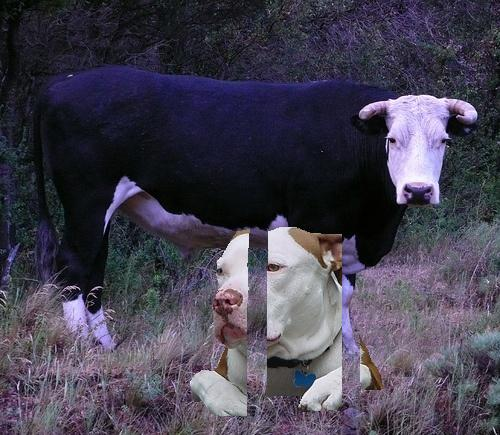tampered: (191, 228, 385, 416)
